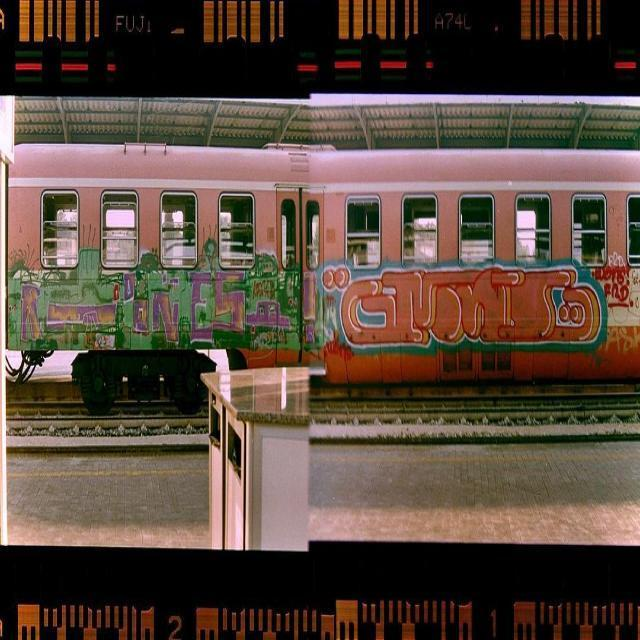-: (302, 258, 609, 356), (8, 256, 303, 355), (593, 253, 634, 310)
